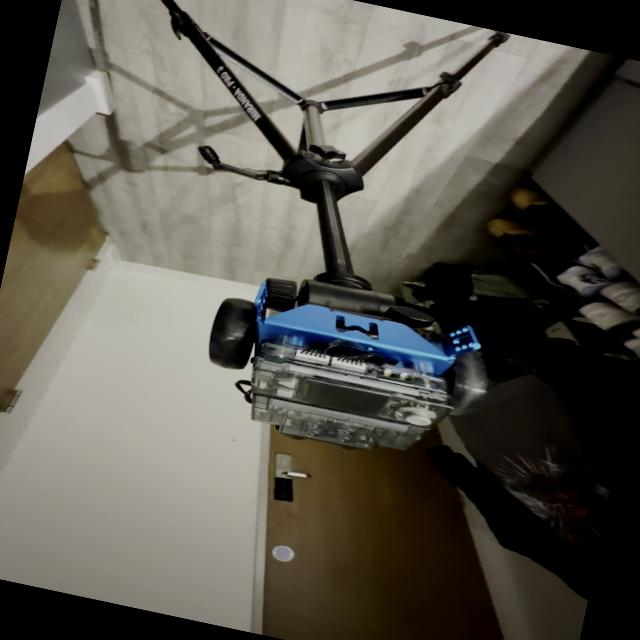mbot-detection: (178, 270, 506, 484)
